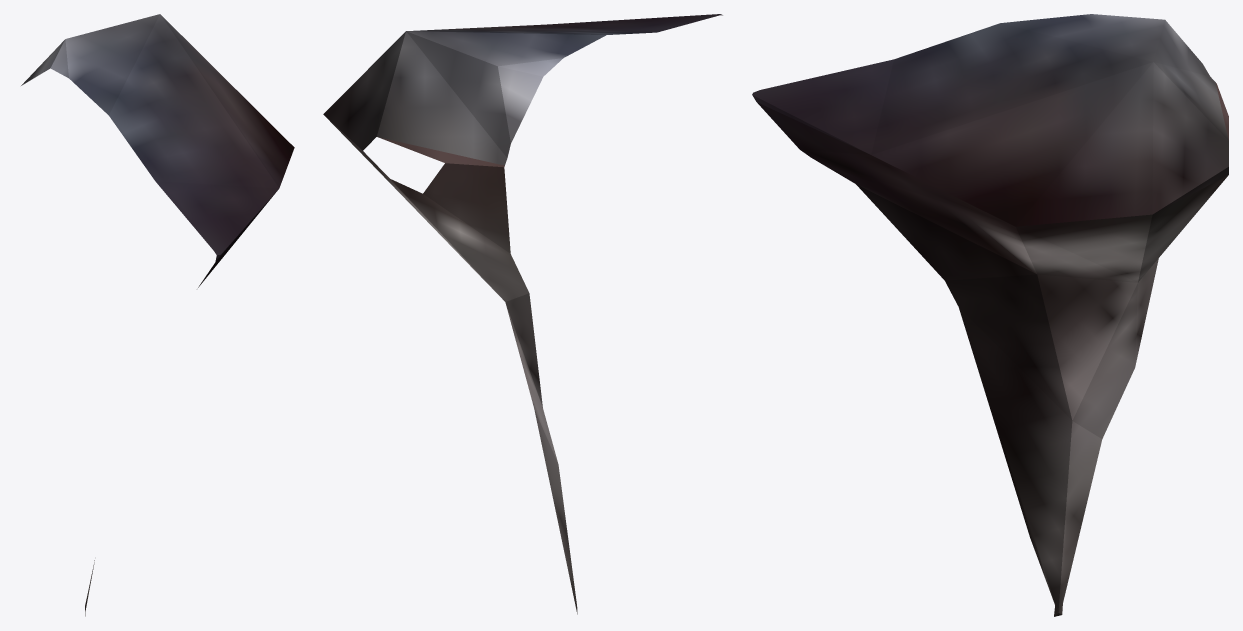
3 views of the same model, side by side, from view 1: azimuth 30°, elevation 25°; view 2: azimuth 150°, elevation 25°; view 3: azimuth 270°, elevation 25° (orthographic). The views are drawn at different scales.
Size of the model in its own units: 0.0291 by 0.0774 by 0.0538.
Materials: 1 (1 with a texture image).
